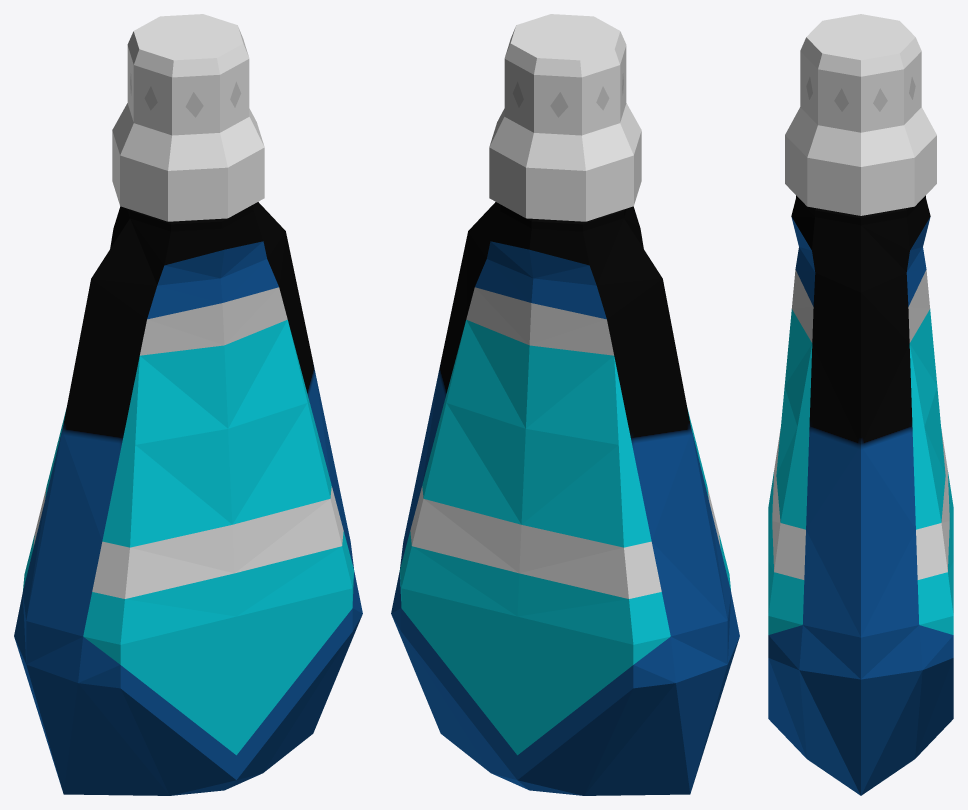
The model's file is CKMouthwash.dae.
The picture shows the model from 3 angles, left to right: view 1: azimuth 30°, elevation 25°; view 2: azimuth 150°, elevation 25°; view 3: azimuth 270°, elevation 25°; orthographic projection. The views are drawn at different scales.
Visible parts, largest first — view 1: Cylinder_004; view 2: Cylinder_004; view 3: Cylinder_004.
Part boxes in pixels (x1,y1,x2,y2): Cylinder_004: [14, 14, 362, 795]; Cylinder_004: [391, 14, 739, 795]; Cylinder_004: [768, 14, 953, 795].
Size of the model in its own units: 2.81 by 1.44 by 6.01.
5 materials, 5 textured.
